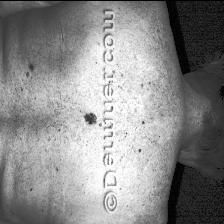Potentially Malignant Skin Tumors: (82, 100, 96, 140), (20, 62, 42, 76)
